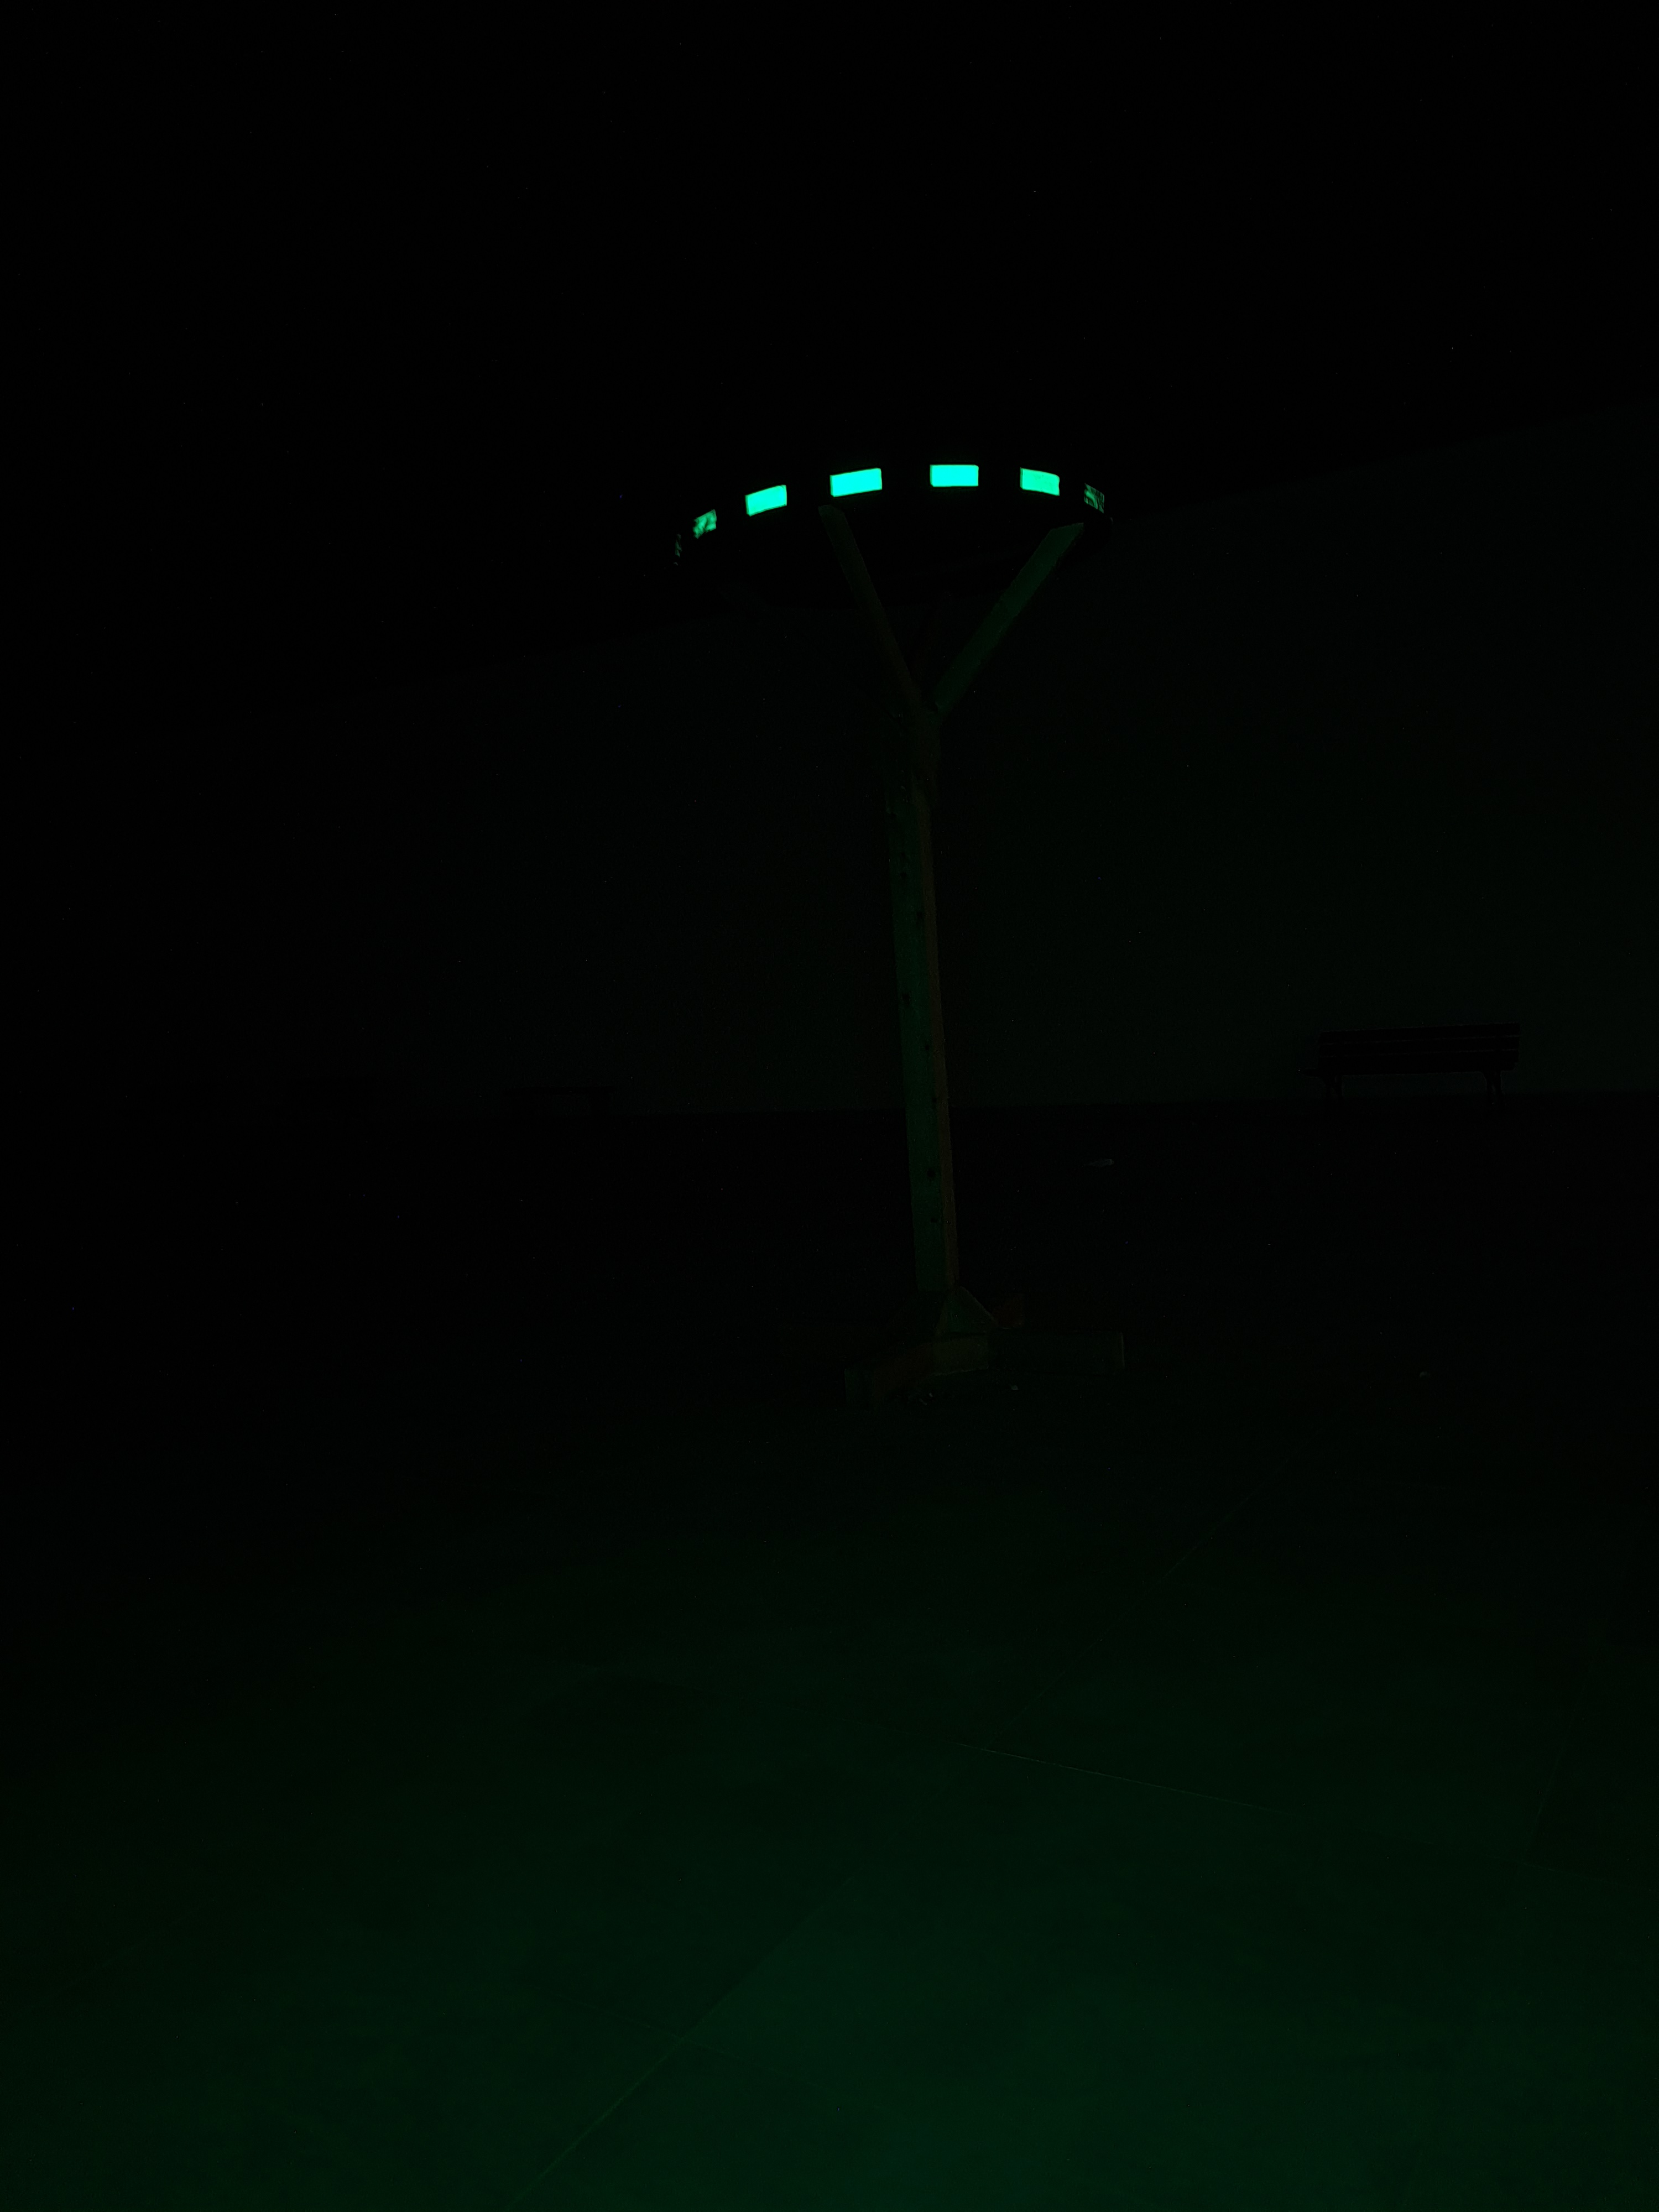hoop: (692, 460, 1108, 540)
